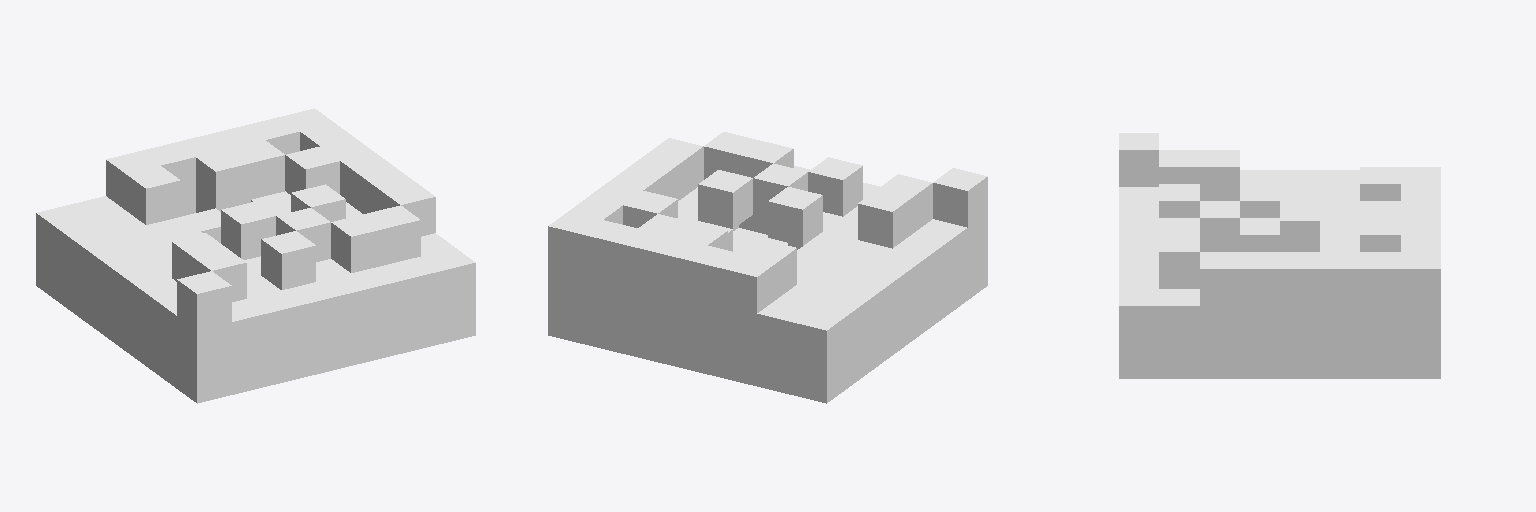
File: Lava5.obj
The picture shows the model from 3 angles: view 1: azimuth 30°, elevation 25°; view 2: azimuth 150°, elevation 25°; view 3: azimuth 270°, elevation 25°; orthographic projection.
Visible parts, largest first — view 1: object 1; view 2: object 1; view 3: object 1.
Boxes of the visible parts, <box> form: object 1: <box>36,108,475,403</box>; object 1: <box>548,132,987,403</box>; object 1: <box>1119,133,1440,378</box>.
Bounding box in the file's own units: 0.8 × 0.3 × 0.8.